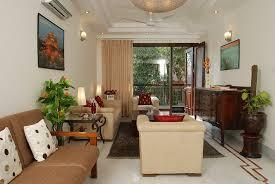chair: (133, 112, 210, 177), (131, 92, 161, 126)
door: (184, 46, 194, 114)
fan: (120, 12, 177, 29)
light: (75, 86, 87, 118), (221, 30, 236, 44), (79, 30, 87, 43), (84, 10, 90, 16), (212, 10, 219, 14)
sofa: (0, 106, 100, 184), (72, 98, 123, 140)
table: (193, 86, 253, 148), (49, 113, 109, 143), (131, 109, 167, 134), (242, 131, 261, 158)
